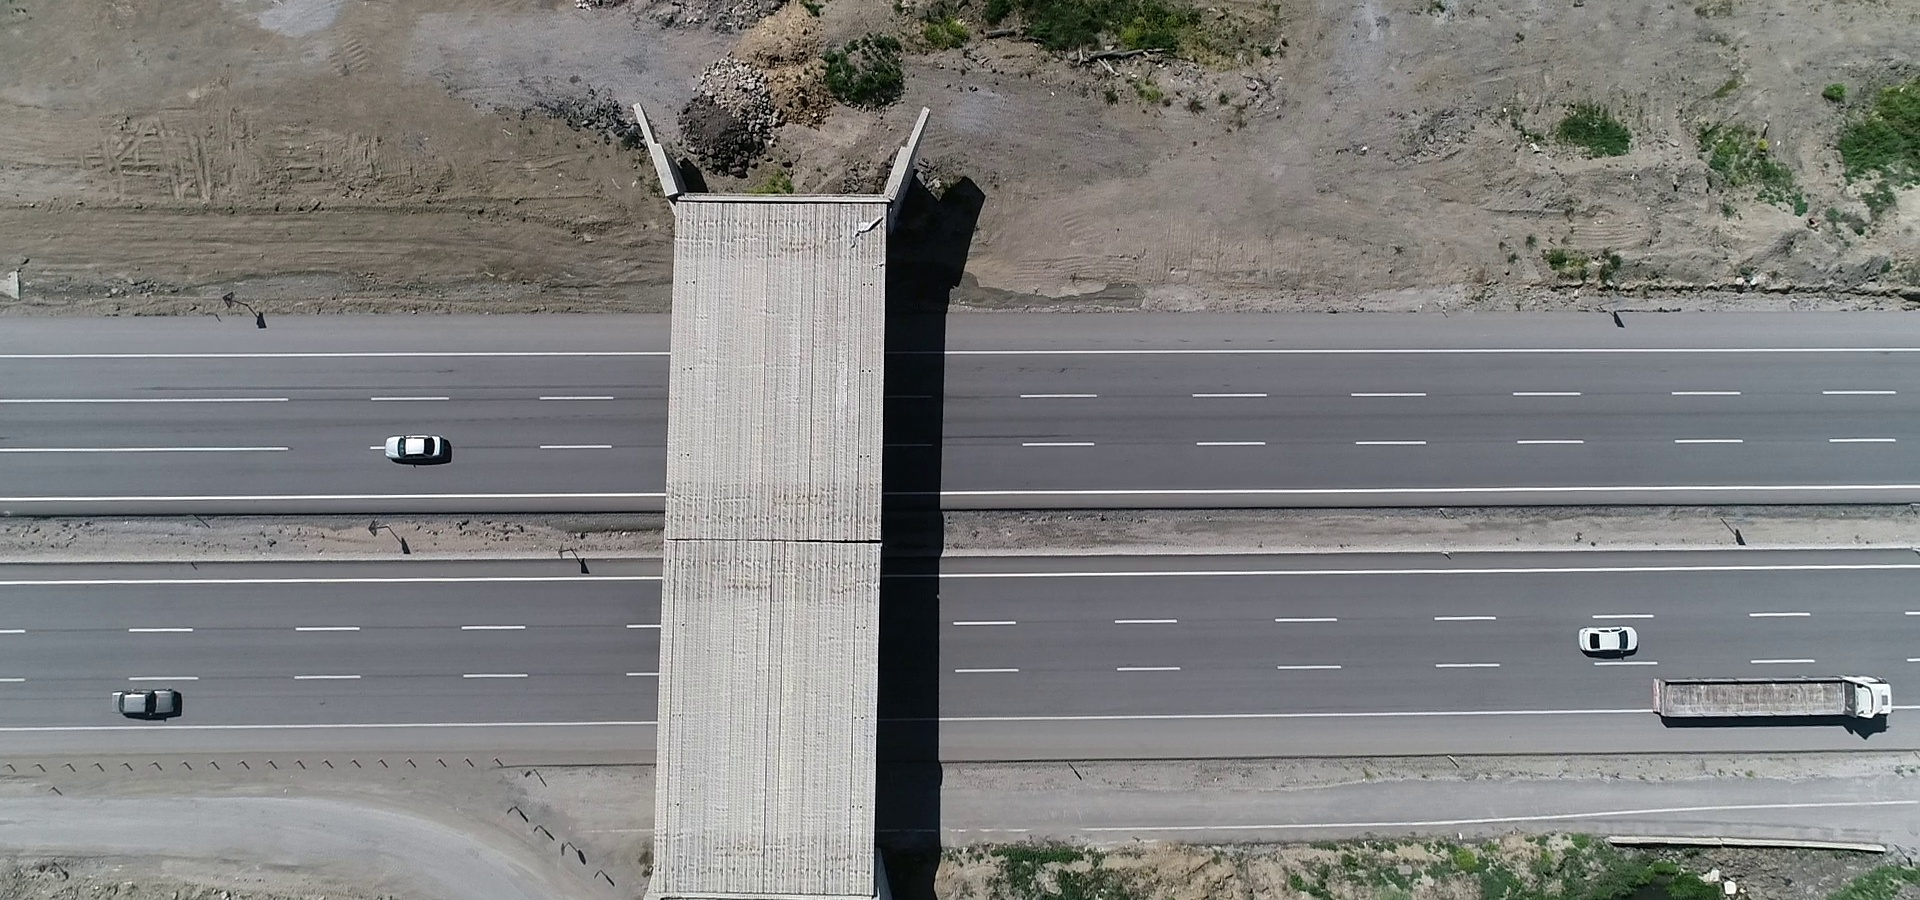araba: (1569, 613, 1648, 665), (114, 680, 185, 735), (380, 422, 458, 467)
kamyon: (1648, 660, 1898, 720)
